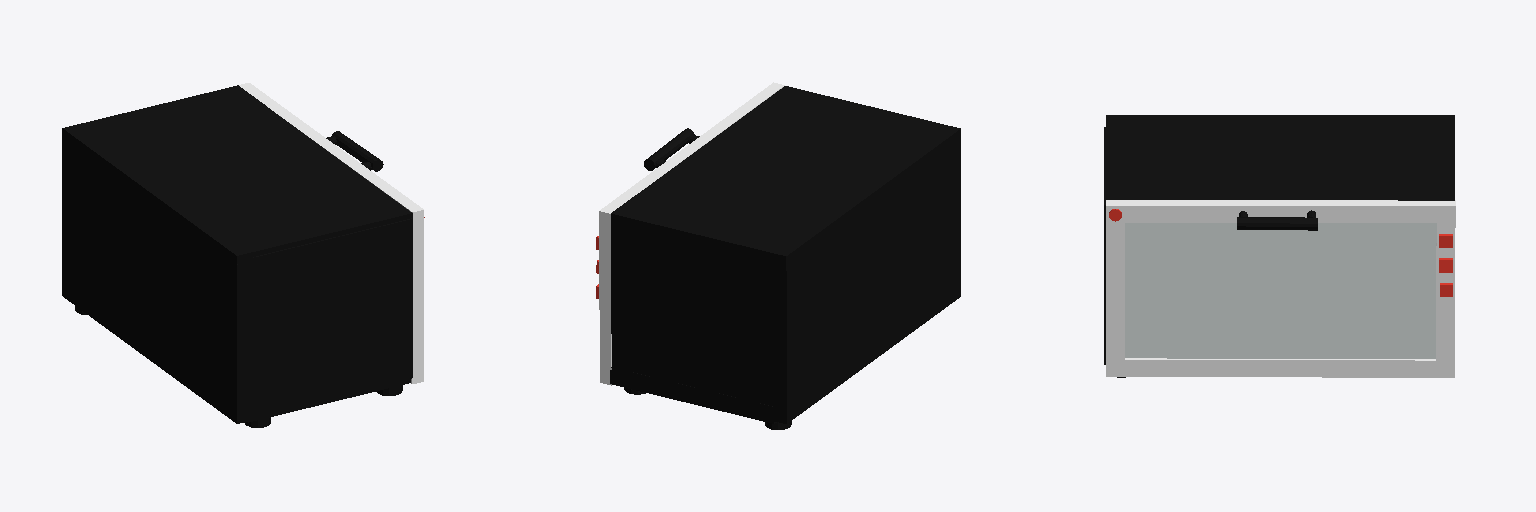
The picture shows the model from 3 angles: view 1: azimuth 30°, elevation 25°; view 2: azimuth 150°, elevation 25°; view 3: azimuth 270°, elevation 25°; orthographic projection.
Visible parts, largest first — view 1: group[number redacted], group[number redacted]; view 2: group[number redacted], group[number redacted]; view 3: group[number redacted], group[number redacted].
Boxes of the visible parts, <box> form: group[number redacted]: <box>62,85,412,427</box>; group[number redacted]: <box>239,83,423,383</box>; group[number redacted]: <box>610,86,960,429</box>; group[number redacted]: <box>599,82,784,385</box>; group[number redacted]: <box>1106,200,1455,377</box>; group[number redacted]: <box>1104,115,1454,377</box>.
Bounding box in the file's own units: 0.9044 × 0.7345 × 1.3.